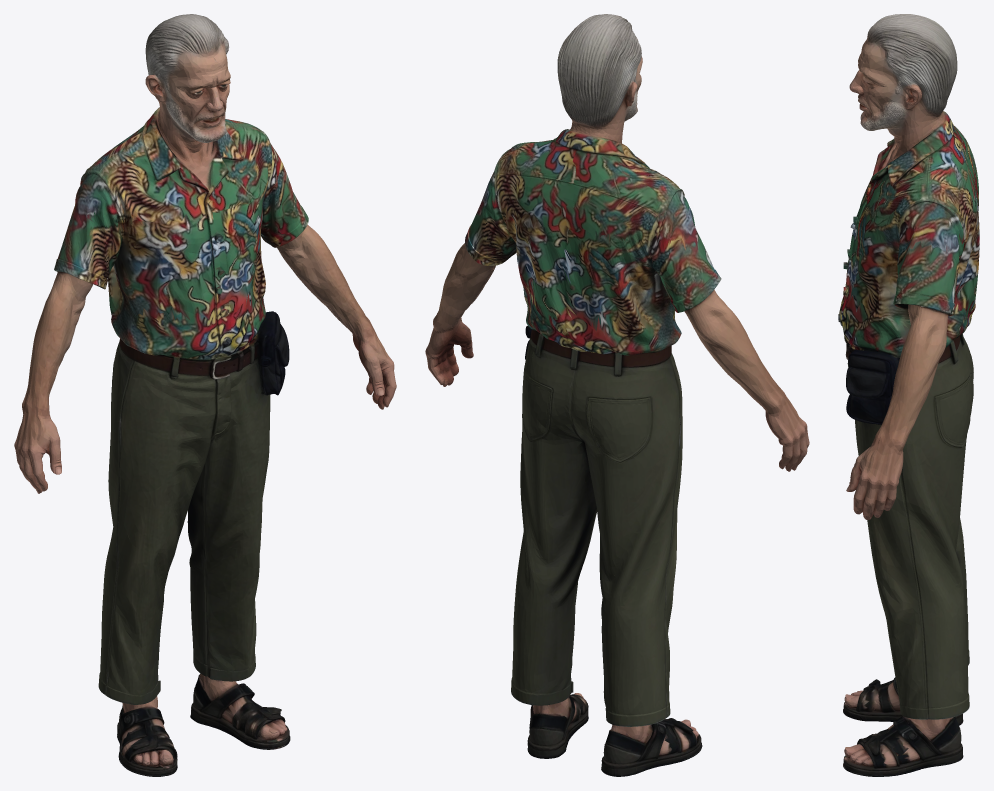
Rendered from patient_jinya.glb.
The picture shows the model from 3 angles, left to right: view 1: azimuth 30°, elevation 25°; view 2: azimuth 150°, elevation 25°; view 3: azimuth 270°, elevation 25°; orthographic projection.
Parts seen in each view (by area): view 1: world; view 2: world; view 3: world.
Part boxes in pixels (bbox=[...]): world: bbox=[14, 14, 396, 776]; world: bbox=[425, 14, 809, 776]; world: bbox=[838, 14, 979, 776].
Size of the model in its own units: 0.9384 by 1.75 by 0.3116.
Materials: 1 (1 with a texture image).
